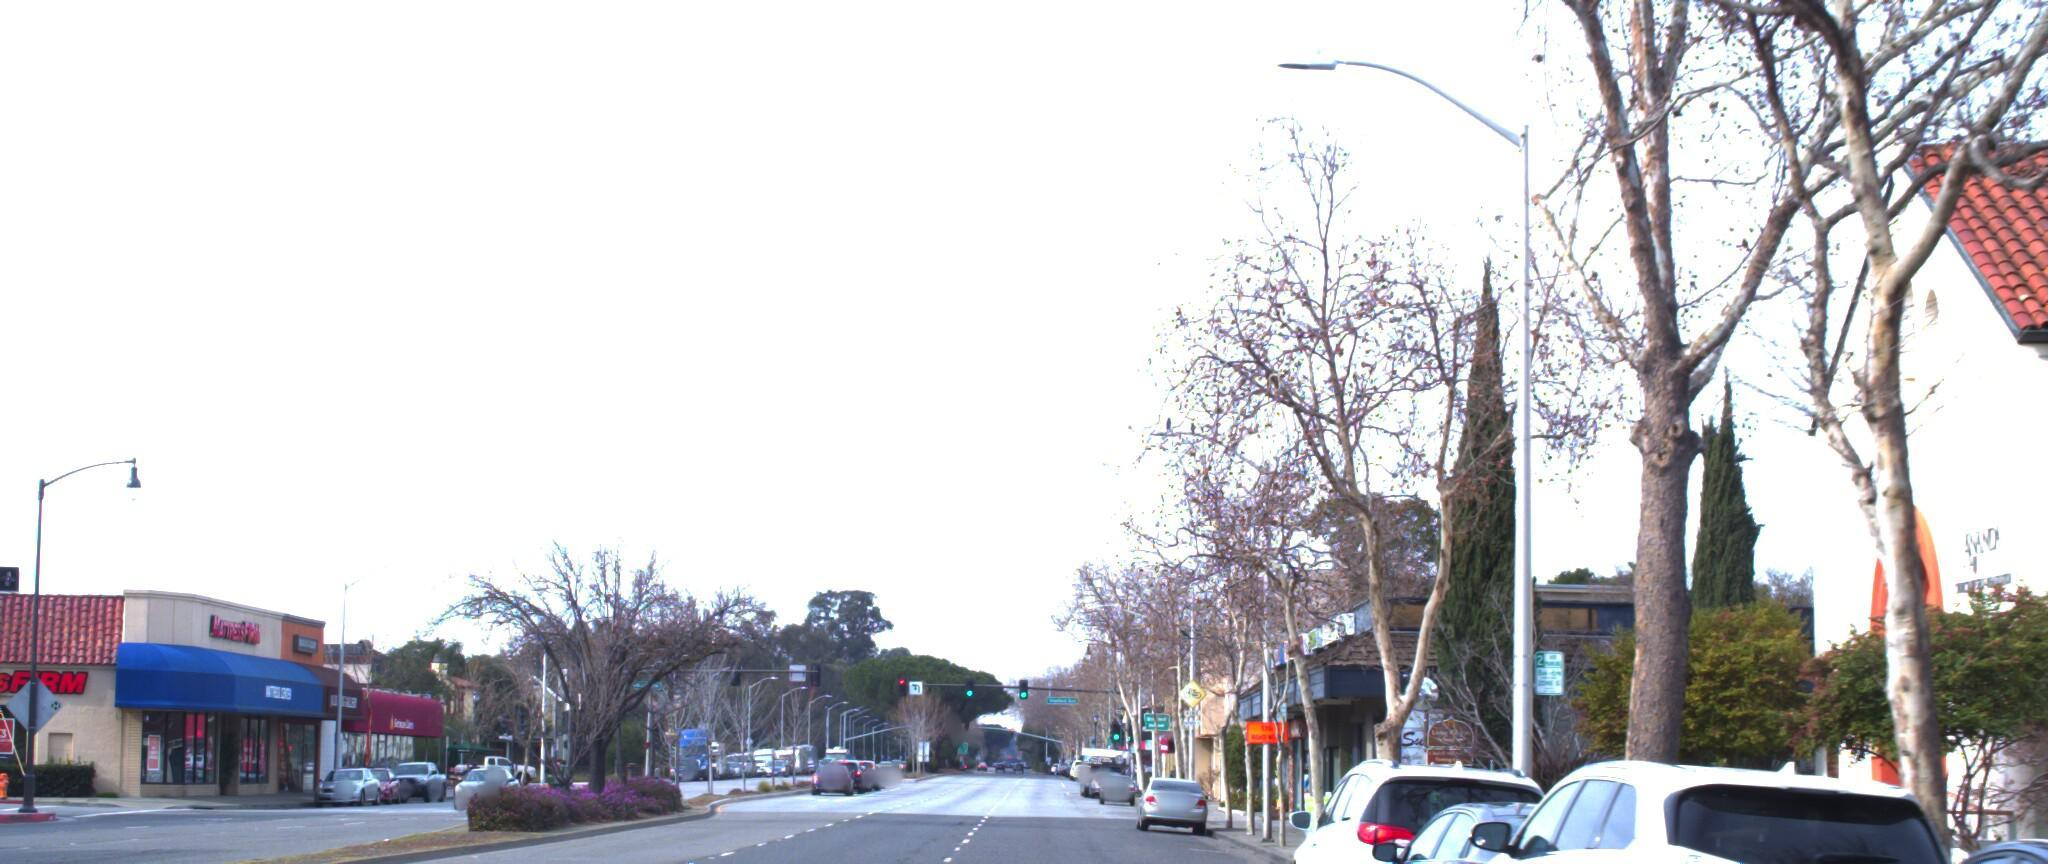car: (1432, 741, 2018, 864), (1268, 739, 1597, 864), (1311, 784, 1765, 864), (1721, 797, 2048, 864), (1127, 765, 1206, 824)
